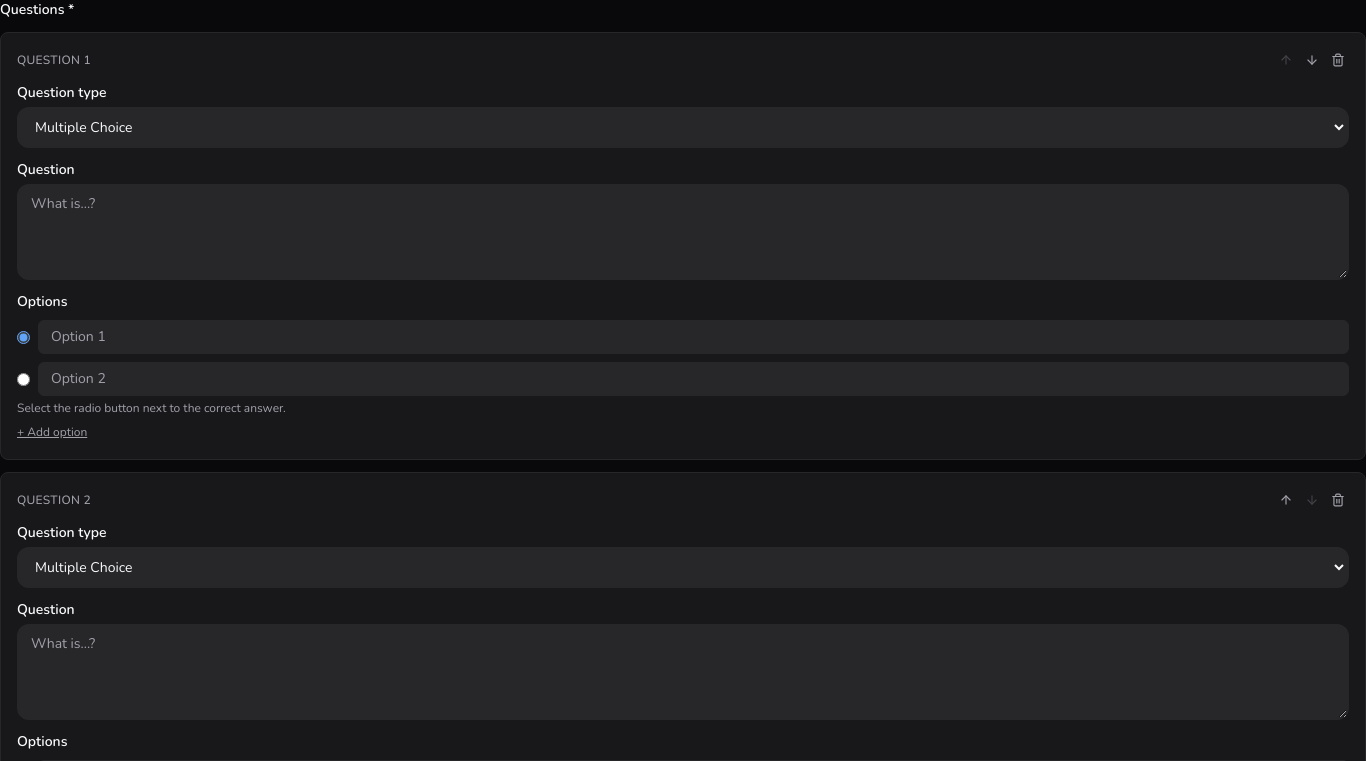
Test case: PracticeProblemAssignmentForm › does not error after removing one of two questions
Click the button named "remove question": click(1338, 500) [1327,489,1349,511]
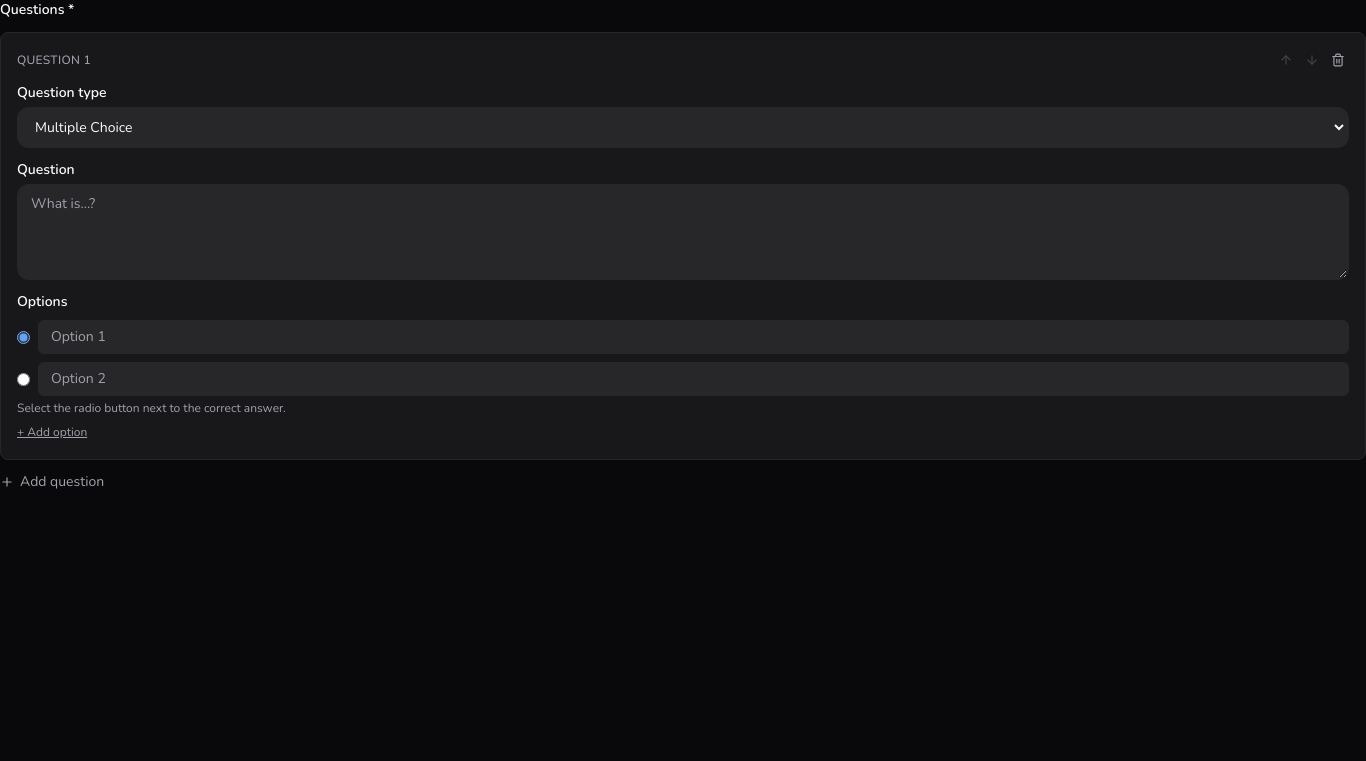
expect the text "Question 1" is shown: met, box [17,52,91,68]
expect the text "Question 2" is gone: met
